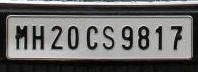0: (65, 24, 79, 49)
1: (153, 24, 163, 50)
2: (48, 24, 62, 48)
7: (168, 24, 182, 50)
8: (135, 24, 150, 49)
9: (119, 24, 134, 50)
C: (84, 24, 97, 49)
H: (30, 24, 44, 49)
M: (14, 24, 26, 49)
S: (100, 24, 114, 49)
